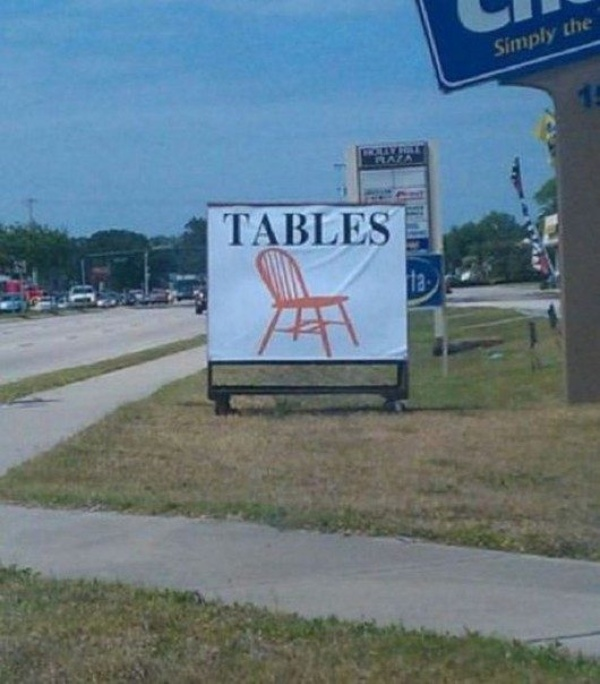text: (465, 1, 480, 41), (481, 1, 496, 41), (497, 1, 512, 41), (513, 1, 528, 41), (529, 1, 544, 41), (545, 1, 560, 41), (561, 1, 576, 41), (497, 22, 512, 61), (513, 22, 528, 61), (529, 22, 544, 61), (450, 1, 464, 41), (225, 210, 240, 247), (241, 210, 256, 247), (257, 210, 272, 247), (273, 210, 288, 247), (289, 210, 304, 247), (305, 210, 320, 247), (321, 210, 336, 247), (337, 210, 352, 247), (353, 210, 368, 247), (369, 210, 384, 247), (545, 22, 559, 61), (577, 81, 592, 109), (561, 14, 576, 38), (577, 14, 592, 38), (577, 1, 586, 41), (490, 22, 496, 61), (417, 270, 426, 295), (385, 210, 391, 247), (385, 153, 400, 167), (401, 153, 416, 167), (369, 144, 384, 157), (385, 144, 400, 157), (401, 144, 416, 157), (409, 270, 416, 295), (374, 153, 384, 167), (221, 210, 224, 247), (593, 81, 596, 109), (362, 144, 368, 157), (417, 144, 423, 157), (593, 14, 594, 38)
